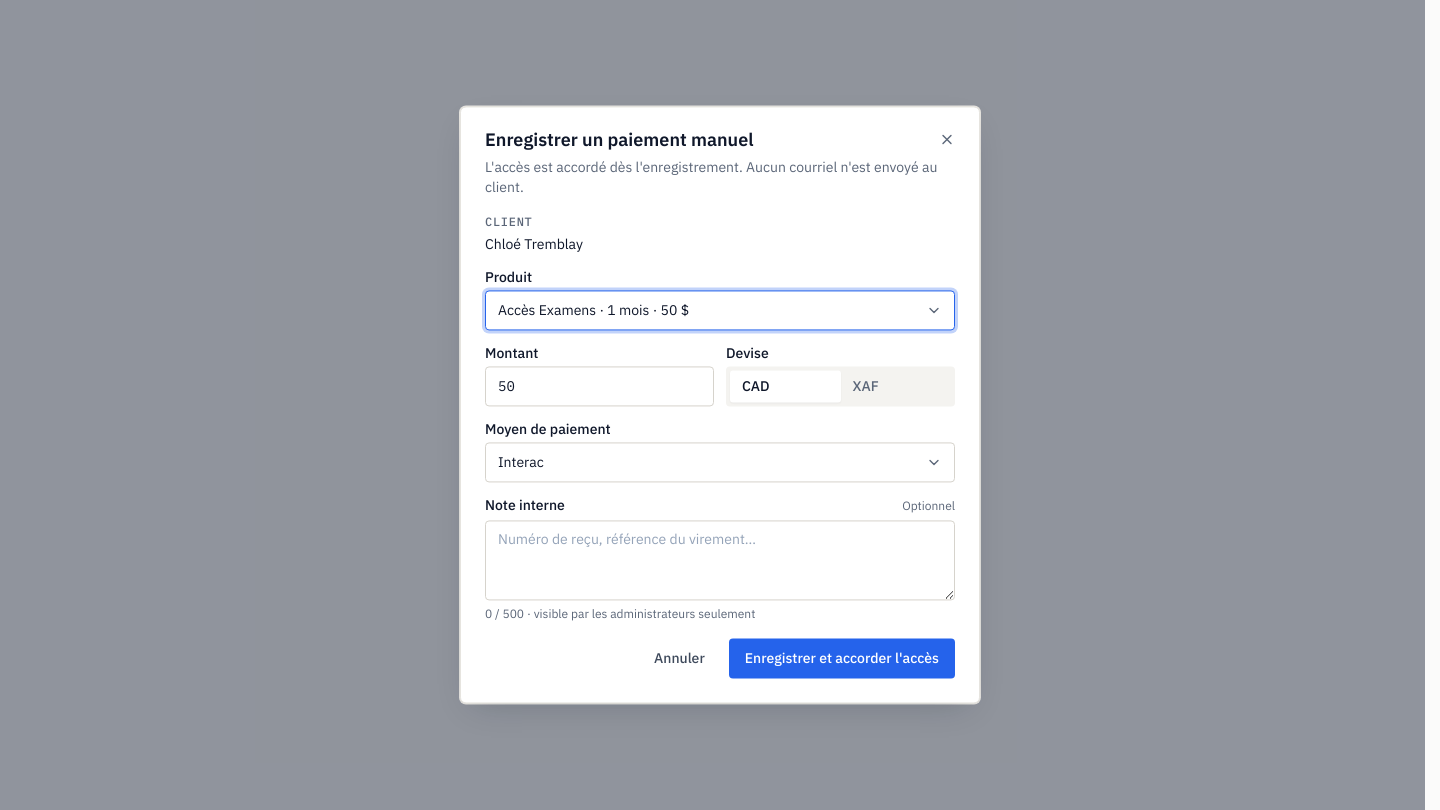
ManualPaymentDialog › accès offert : sans motif, refusé avant tout appel
Replace the text in the field labelled "Montant" with "0" at coordinates (600, 387), box [485,367,714,407]
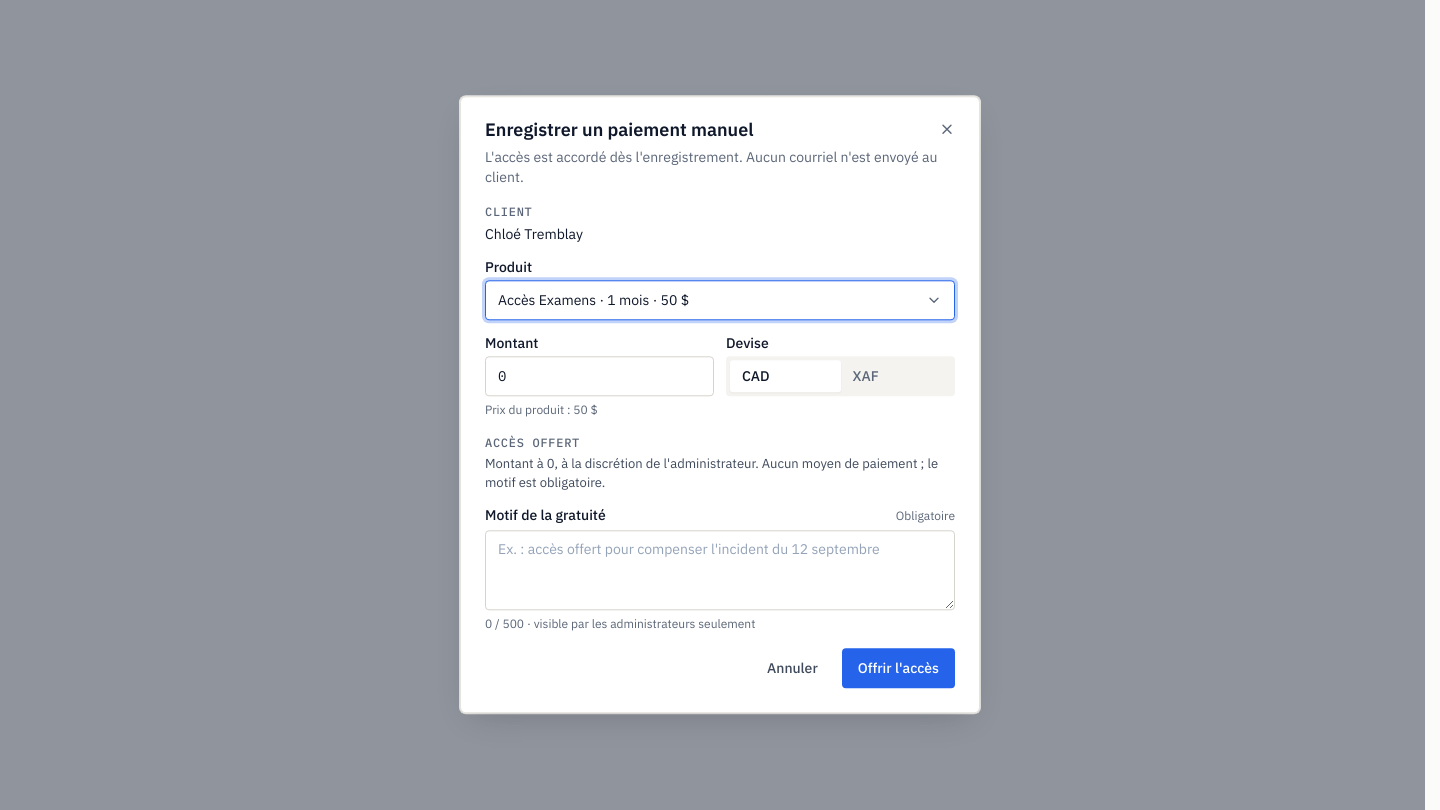
Result: the text "Motif de la gratuité" is shown at [485,509,606,523]
Click the button "Offrir l'accès" at coordinates (898, 669), box [842,649,955,689]
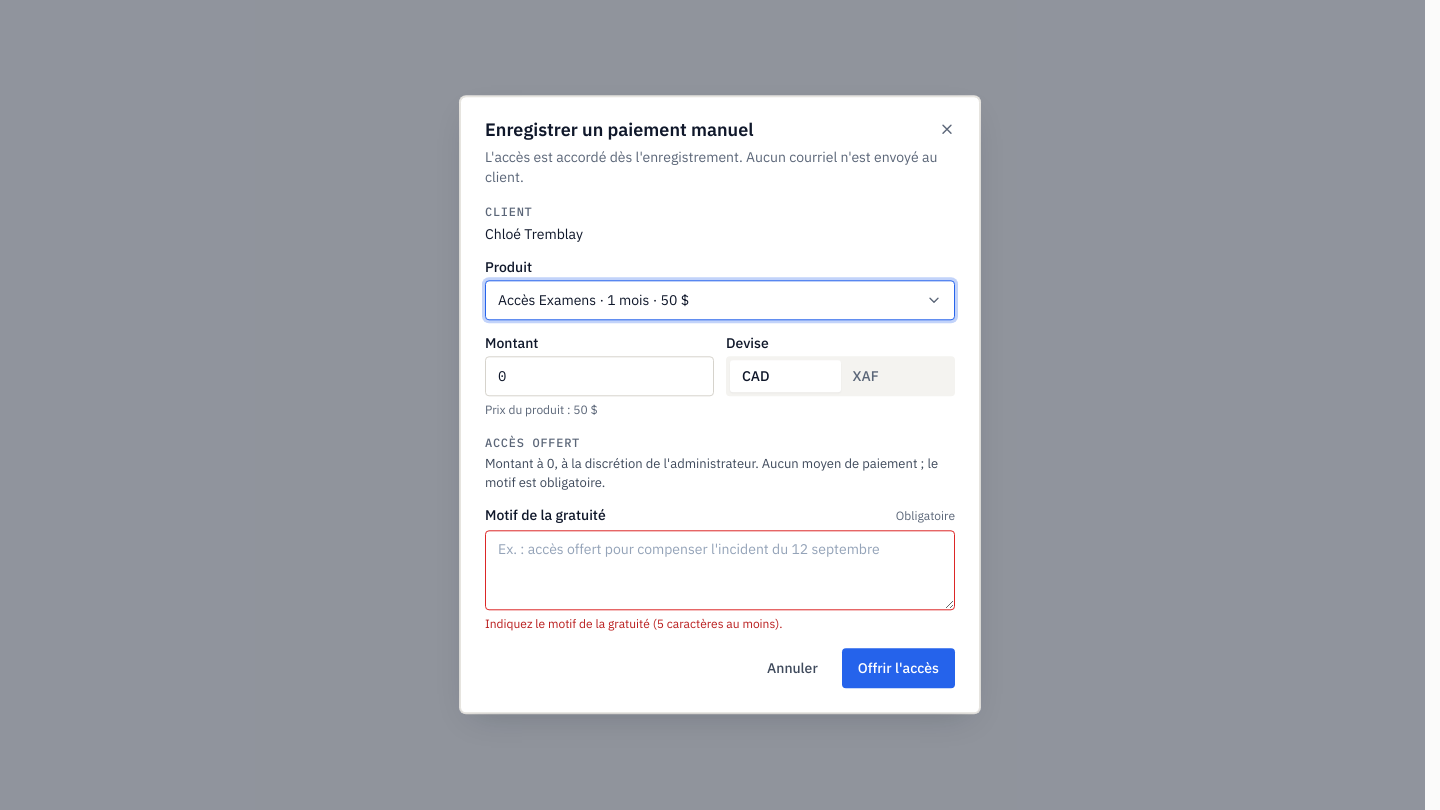
Result: the text "Indiquez le motif de la gratuité (5 caractères au moins)." is shown at [485,617,782,632]
